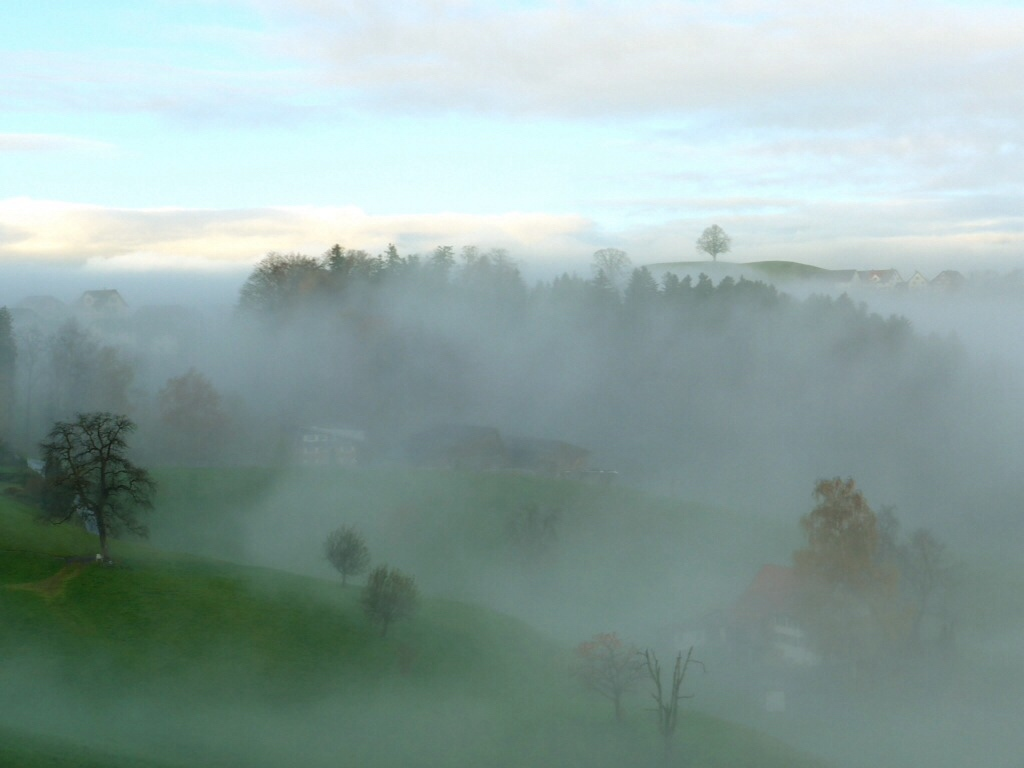Tree: (216, 238, 1024, 495), (772, 472, 1024, 766), (21, 410, 159, 562), (17, 315, 141, 428), (151, 366, 223, 470), (0, 305, 20, 453)
